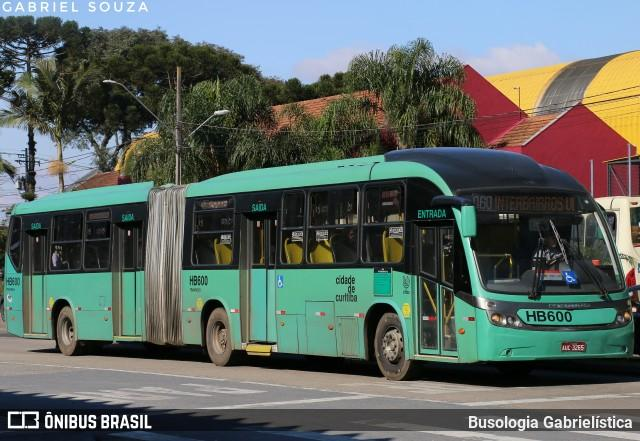INTERBAIRROS VI: (489, 193, 581, 215)
